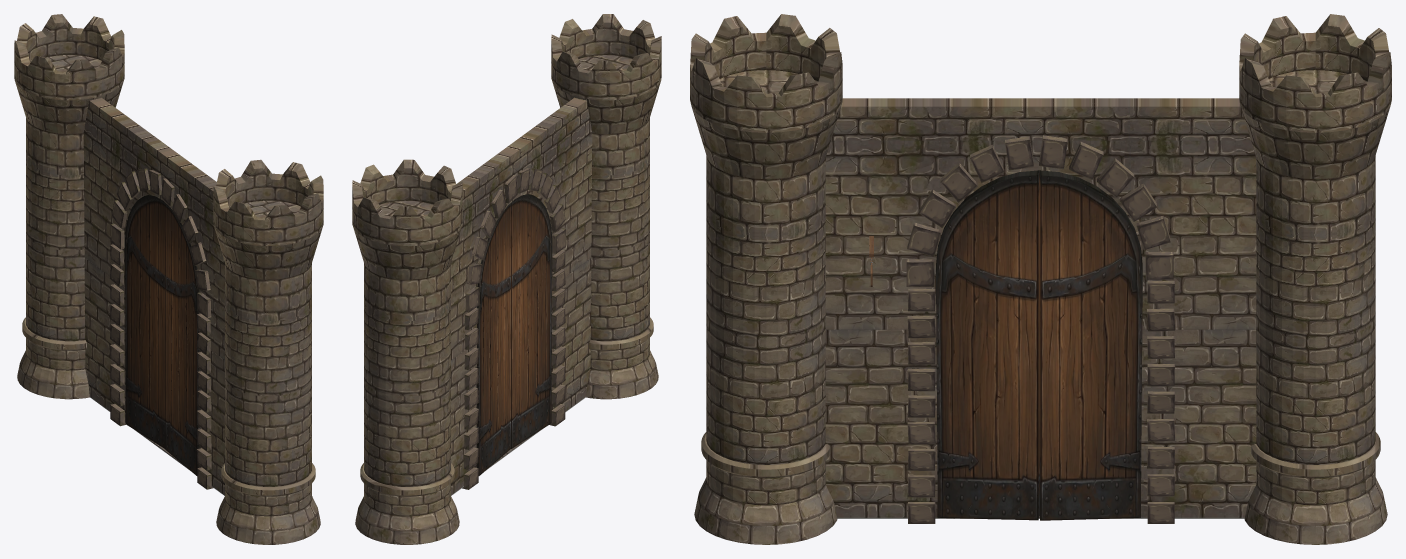
Rendered from puerta.fbx.
3 renders of one model, left to right at view 1: azimuth 30°, elevation 25°; view 2: azimuth 150°, elevation 25°; view 3: azimuth 270°, elevation 25°, orthographic. The views are drawn at different scales.
Parts seen in each view (by area): view 1: puerta; view 2: puerta; view 3: puerta.
Part boxes in pixels (x1,y1,x2,y2): puerta: [14, 14, 323, 544]; puerta: [352, 14, 661, 544]; puerta: [690, 14, 1391, 544].
Bounding box in the file's own units: 783 × 2670 × 3601.
